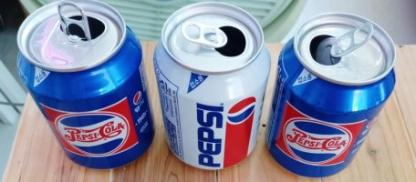Can: (20, 2, 154, 167), (277, 5, 387, 181), (157, 1, 265, 173)
